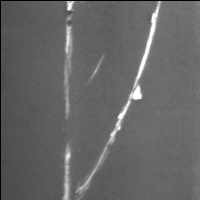scratches: (76, 2, 163, 199), (60, 1, 79, 111), (59, 144, 73, 200)
